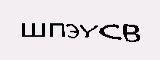В: (122, 24, 143, 42)
П: (49, 22, 65, 41)
С: (98, 22, 121, 41)
Ш: (20, 22, 47, 38)
Э: (64, 23, 80, 39)
Ү: (78, 23, 98, 38)
